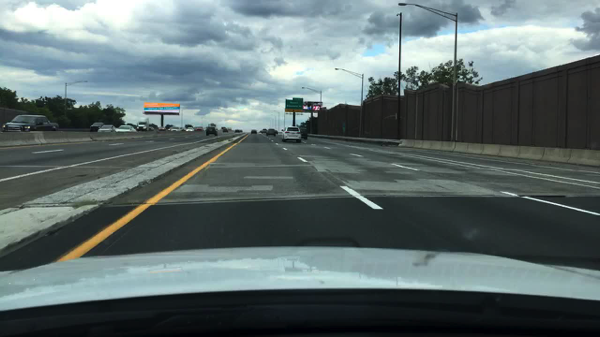car: (1, 115, 59, 132), (279, 127, 301, 142), (100, 125, 116, 133), (117, 126, 138, 132), (90, 123, 104, 130), (206, 128, 218, 136), (265, 129, 275, 137), (301, 128, 308, 139), (195, 126, 205, 131), (186, 127, 195, 132), (171, 128, 182, 132), (159, 126, 166, 131), (223, 128, 228, 134), (148, 126, 153, 132), (250, 130, 257, 134), (261, 129, 266, 134), (234, 128, 240, 132)
traffic sign: (145, 103, 180, 115), (285, 97, 303, 114)
truck: (137, 118, 150, 131)
